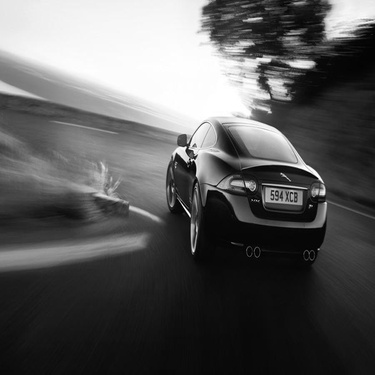car: (151, 104, 335, 277)
